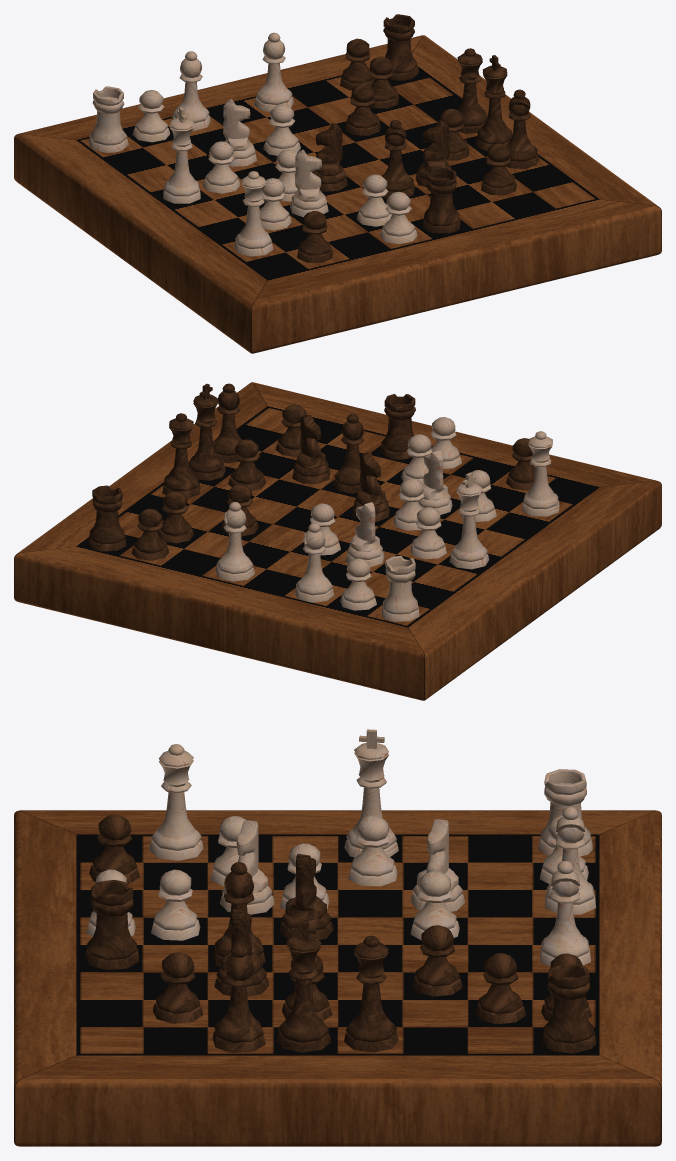
File: WoodenChessSet2.glb
3 views of the same model, one above another, from view 1: azimuth 30°, elevation 25°; view 2: azimuth 150°, elevation 25°; view 3: azimuth 270°, elevation 25° (orthographic). The views are drawn at different scales.
Visible parts, largest first — view 1: WhiteQueen; view 2: WhiteQueen; view 3: WhiteQueen.
Part boxes in pixels (<box>): WhiteQueen: <box>14,14,661,353</box>; WhiteQueen: <box>14,382,661,700</box>; WhiteQueen: <box>14,729,661,1146</box>.
Bounding box in the file's own units: 0.35 × 0.1108 × 0.35.
Materials: 3 (3 with a texture image).
